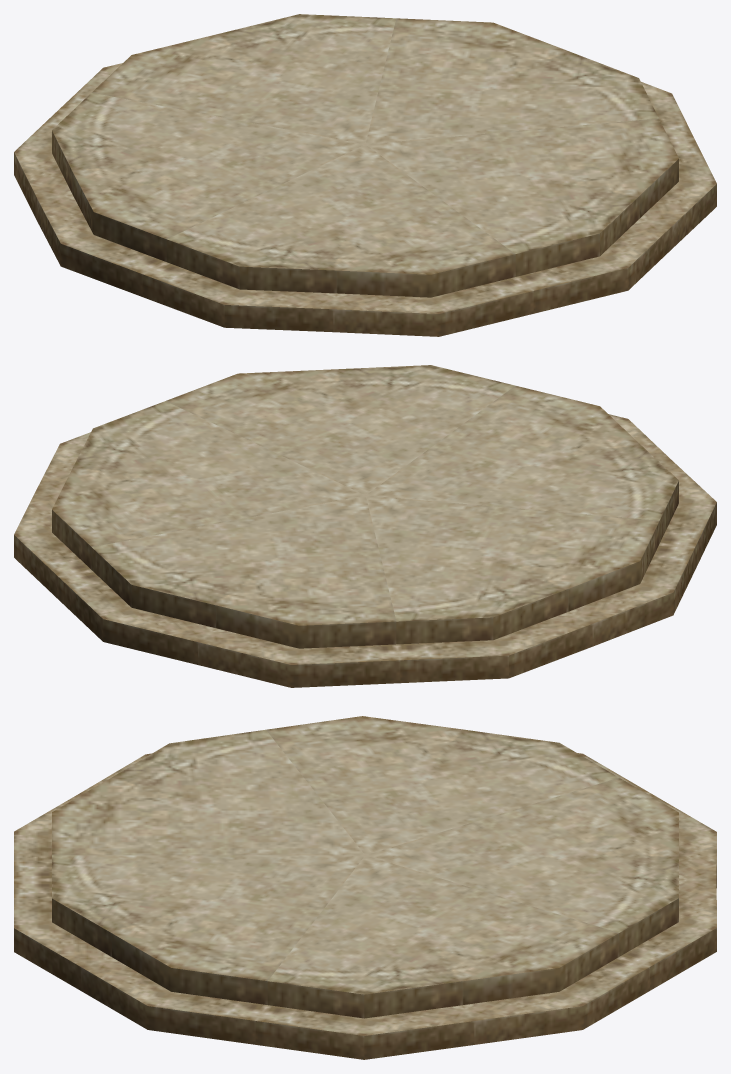
The model's file is warpgate02_01.fbx.
3 renders of one model, top to bottom at view 1: azimuth 30°, elevation 25°; view 2: azimuth 150°, elevation 25°; view 3: azimuth 270°, elevation 25°, orthographic. The views are drawn at different scales.
Visible parts, largest first — view 1: gate02; view 2: gate02; view 3: gate02.
Boxes of the visible parts, bbox=[...] form: gate02: bbox=[14, 14, 716, 336]; gate02: bbox=[14, 365, 716, 687]; gate02: bbox=[14, 716, 716, 1059].
Bounding box in the file's own units: 12.17 × 0.8804 × 11.58.
